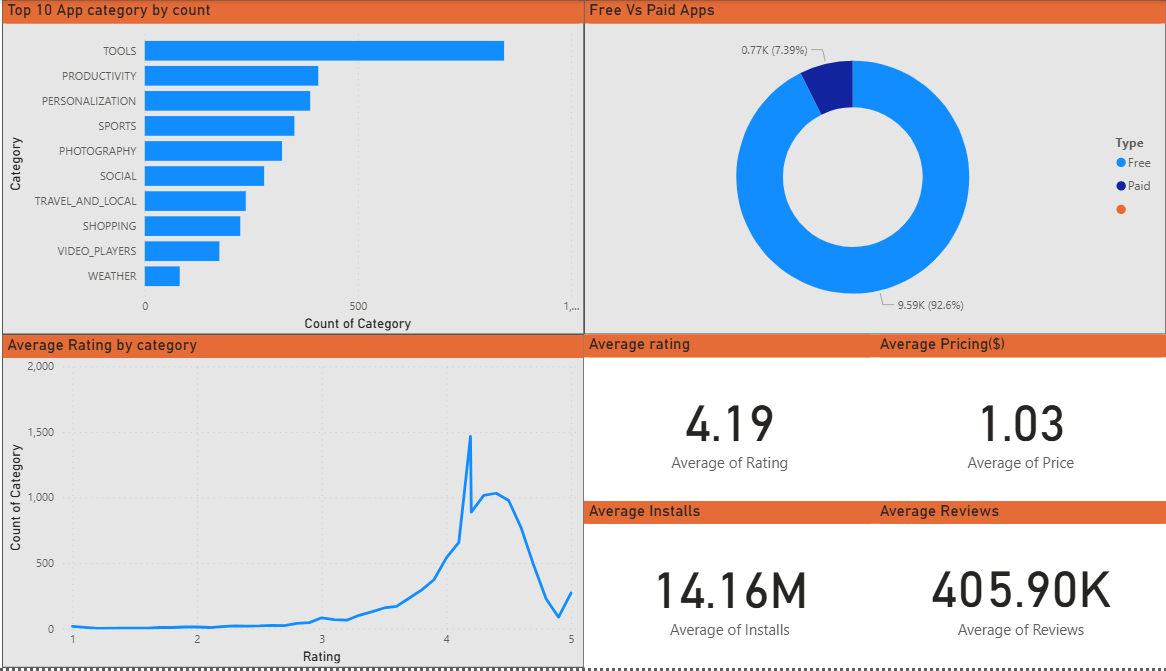

The page's visual inventory and layout, read from the dashboard file:
{"tool":"powerbi","page":{"name":"Page 1","canvas":[1280,720],"ordinal":0},"visuals":[{"type":"clusteredBarChart","title":"Top 10 App category by count","fields":{"Category":["cleaned_playstore.Category"],"Y":["CountNonNull(cleaned_playstore.Category)"]},"box":[12.9,0,627.8,360.8],"z":0},{"type":"donutChart","title":"Free Vs Paid Apps","fields":{"Category":["cleaned_playstore.Type"],"Y":["CountNonNull(cleaned_playstore.Type)"]},"box":[640.7,0,627.8,360.8],"z":1000},{"type":"lineChart","title":"Average Rating by category","fields":{"Y":["CountNonNull(cleaned_playstore.Category)"],"Category":["cleaned_playstore.Rating"]},"box":[12.9,360.8,627.8,359.2],"z":2000},{"type":"card","title":"Average rating","fields":{"Values":["Avg(cleaned_playstore.Rating)"]},"box":[640.7,360.8,313.9,179.6],"z":3000},{"type":"card","title":"Average Installs","fields":{"Values":["Avg(cleaned_playstore.Installs)"]},"box":[640.7,540.4,313.9,179.6],"z":4000},{"type":"card","title":"Average Pricing($)","fields":{"Values":["Avg(cleaned_playstore.Price)"]},"box":[954.6,360.8,313.9,179.6],"z":5000},{"type":"card","title":"Average Reviews","fields":{"Values":["Avg(cleaned_playstore.Reviews)"]},"box":[955,541,314,179],"z":6000}]}

Visuals, with their boxes in screenshot pixels (x1, y1, x2, y2), scaled from the page's 1280x720 canvas onto the 1166x671 screenshot:
"Top 10 App category by count" clusteredBarChart: select_region(12, 0, 584, 336)
"Free Vs Paid Apps" donutChart: select_region(584, 0, 1156, 336)
"Average Rating by category" lineChart: select_region(12, 336, 584, 670)
"Average rating" card: select_region(584, 336, 870, 504)
"Average Installs" card: select_region(584, 504, 870, 670)
"Average Pricing($)" card: select_region(870, 336, 1156, 504)
"Average Reviews" card: select_region(870, 504, 1156, 670)
